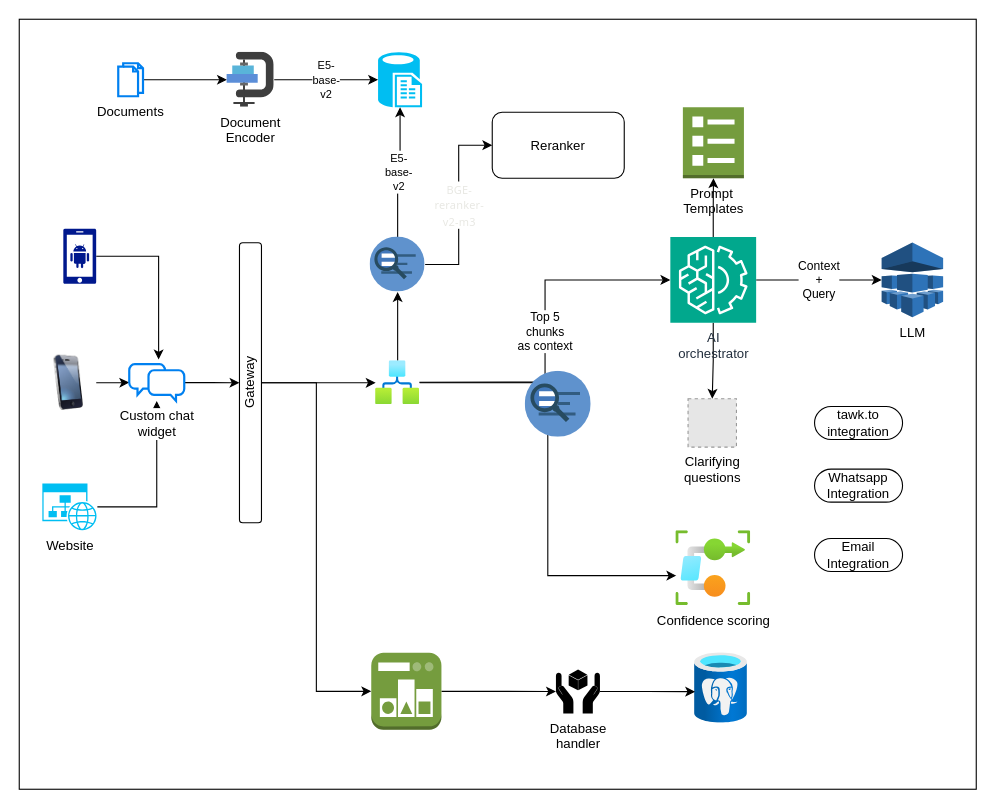
Some shapes in this 996 by 809 pixel diagram are drawn without their labels. Grey dashed boxes stand in for pictures. Here are the shapes that lost their labels. From the top down, the centre of each, then its label:
the point at 400,79: Qdrant
the point at 79,255: Android
the point at 397,264: Retriever
the point at 68,382: iPhone
the point at 397,382: Response Manager
the point at 405,691: Conversation manager
the point at 720,687: PostgreSQL
